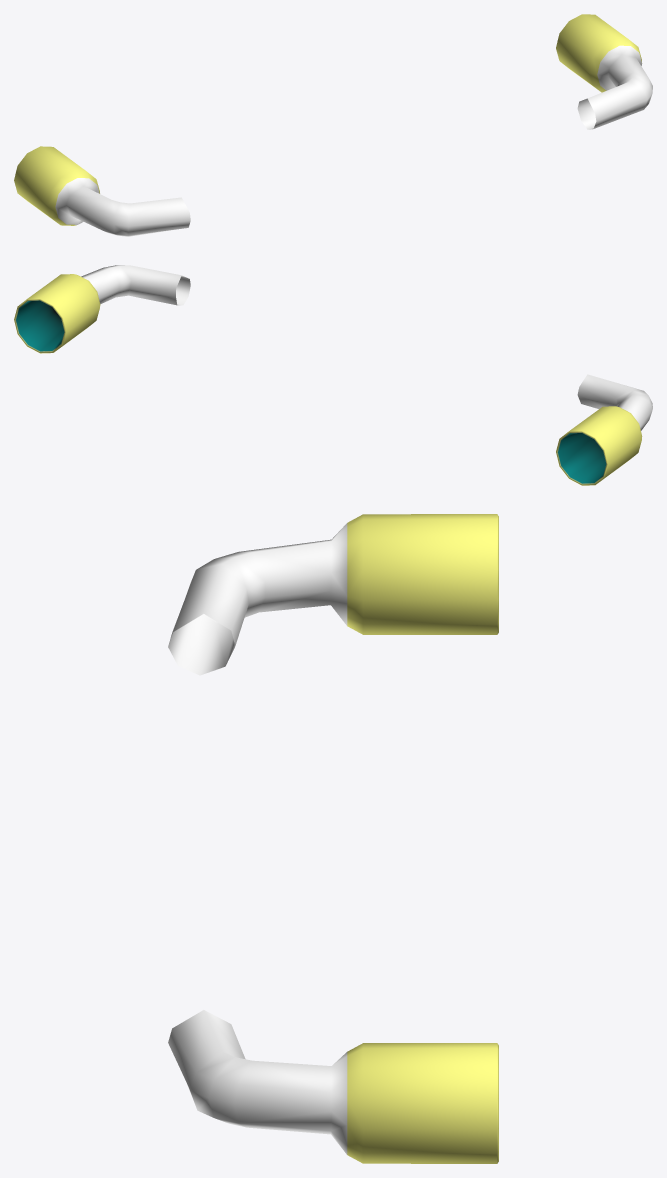
Rendered from Car_Mini_CountrymanJCW_2017_Exhausts_SetFA.fbx.
3 renders of one model, top to bottom at view 1: azimuth 30°, elevation 25°; view 2: azimuth 150°, elevation 25°; view 3: azimuth 270°, elevation 25°, orthographic. The views are drawn at different scales.
Parts seen in each view (by area): view 1: Exhausts 6; view 2: Exhausts 6; view 3: Exhausts 6.
Boxes of the visible parts, left/top/right/bottom form: Exhausts 6: left=14, top=14, right=652, bottom=236; Exhausts 6: left=14, top=265, right=652, bottom=485; Exhausts 6: left=168, top=514, right=498, bottom=1163.
Bounding box in the file's own units: 1.18 × 0.1043 × 0.2839.
